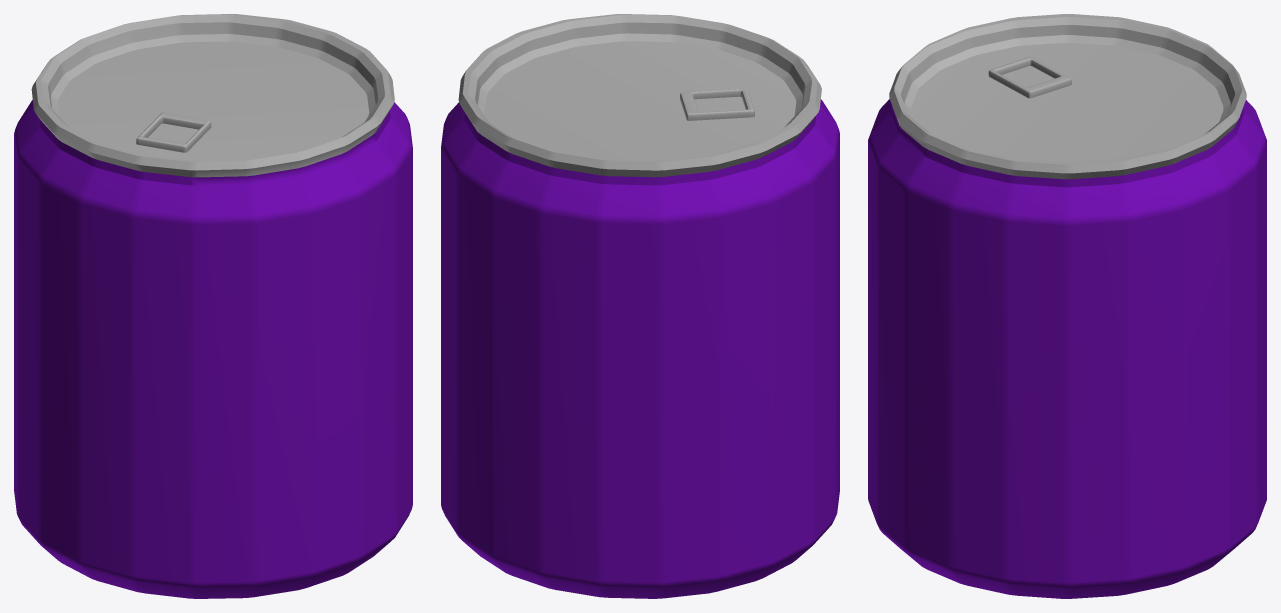
The model's file is Ürün26.fbx.
The picture shows the model from 3 angles, left to right: view 1: azimuth 30°, elevation 25°; view 2: azimuth 150°, elevation 25°; view 3: azimuth 270°, elevation 25°; orthographic projection.
Visible parts, largest first — view 1: Ürün4; view 2: Ürün4; view 3: Ürün4.
Part boxes in pixels (x1,y1,x2,y2): Ürün4: (14,14,412,598); Ürün4: (441,14,839,598); Ürün4: (868,14,1266,598).
Size of the model in its own units: 11.57 by 14.02 by 11.57.
